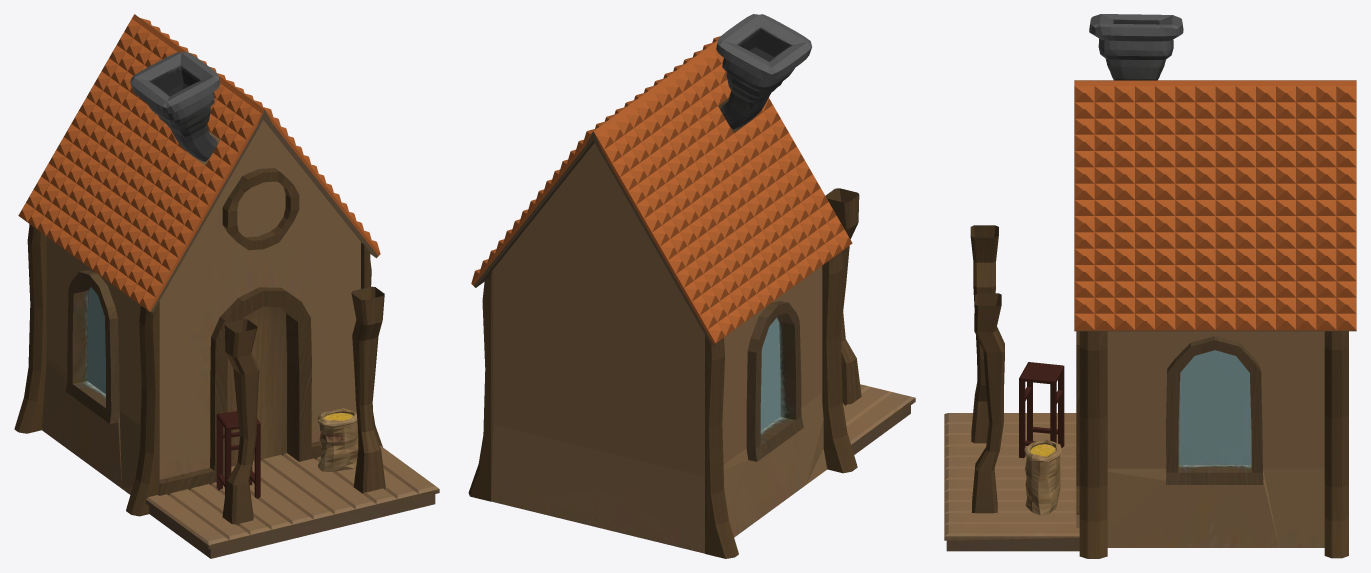
3 renders of one model, left to right at view 1: azimuth 30°, elevation 25°; view 2: azimuth 150°, elevation 25°; view 3: azimuth 270°, elevation 25°, orthographic. The views are drawn at different scales.
Parts seen in each view (by area): view 1: slot_anchor_house, slot_roof, slot_add04_a_burlap_sack_fill, slot_add02_a_wooden_park_benc; view 2: slot_anchor_house, slot_roof; view 3: slot_anchor_house, slot_roof, slot_add02_a_wooden_park_benc, slot_add04_a_burlap_sack_fill.
Boxes of the visible parts, x1=… form: slot_anchor_house: x1=14, y1=120, x2=439, y2=558; slot_roof: x1=18, y1=14, x2=380, y2=312; slot_add04_a_burlap_sack_fill: x1=317, y1=408, x2=358, y2=471; slot_add02_a_wooden_park_benc: x1=216, y1=411, x2=260, y2=498; slot_anchor_house: x1=468, y1=97, x2=915, y2=558; slot_roof: x1=471, y1=14, x2=852, y2=345; slot_anchor_house: x1=944, y1=225, x2=1348, y2=558; slot_roof: x1=1074, y1=14, x2=1356, y2=331; slot_add02_a_wooden_park_benc: x1=1019, y1=362, x2=1064, y2=458; slot_add04_a_burlap_sack_fill: x1=1024, y1=439, x2=1061, y2=515.
Size of the model in its own units: 0.7265 by 1.13 by 0.9419.
Materials: 3 (3 with a texture image).
